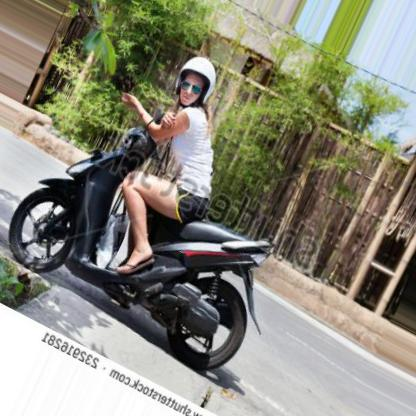with helmet: (174, 55, 216, 109)
